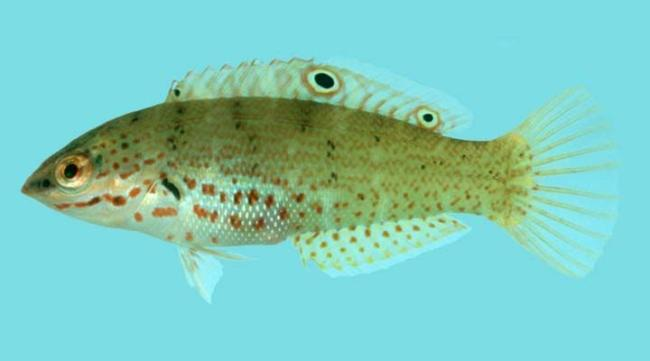fish: (19, 57, 621, 306)
